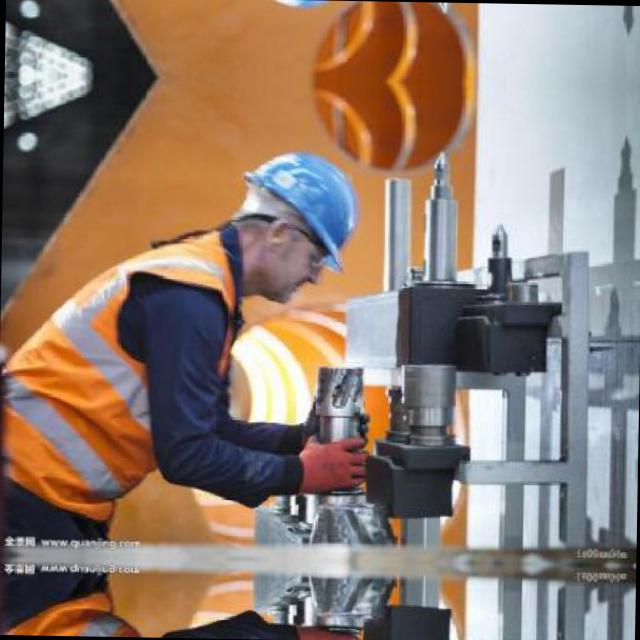helmet: (213, 130, 372, 312)
